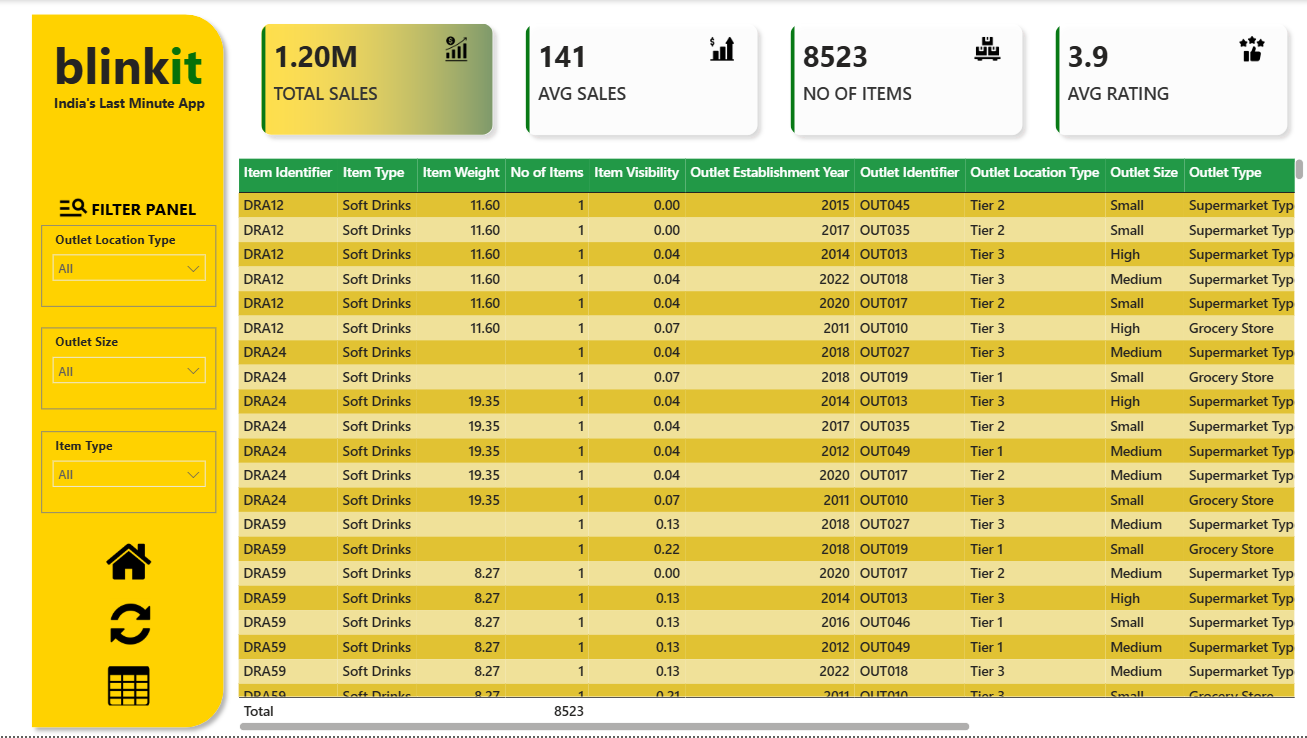

Layout of this report page (visuals, bound fields, positions):
{"tool":"powerbi","page":{"name":"Table","canvas":[1280,720],"ordinal":1},"visuals":[{"type":"shape","box":[21.4,4.3,205.7,715.7],"z":0},{"type":"textbox","box":[47.1,25.7,157.1,92.9],"z":1000},{"type":"textbox","box":[47.1,87.1,171.4,31.4],"z":2000},{"type":"slicer","fields":{"Values":["BlinkIT Grocery Data.Outlet Location Type"]},"box":[40,220,171.4,80],"z":3000},{"type":"slicer","fields":{"Values":["BlinkIT Grocery Data.Outlet Size"]},"box":[40,320,171.4,80],"z":4000},{"type":"slicer","fields":{"Values":["BlinkIT Grocery Data.Item Type"]},"box":[40,421.4,171.4,80],"z":5000},{"type":"textbox","box":[71.4,188.6,140,31.4],"z":6000},{"type":"actionButton","box":[104.3,525.7,44.3,47.1],"z":7000},{"type":"actionButton","box":[107.1,585.7,40,50],"z":8000},{"type":"actionButton","box":[104.3,651.4,44.3,38.6],"z":9000},{"type":"image","box":[55.7,188.6,31.4,31.4],"z":10000},{"type":"cardVisual","fields":{"Data":["BlinkIT Grocery Data.Total Sales","BlinkIT Grocery Data.Avg Sales","BlinkIT Grocery Data.No of Items","BlinkIT Grocery Data.Avg Rating"]},"box":[237.2,4.9,1042.9,145.7],"z":11000},{"type":"tableEx","fields":{"Values":["BlinkIT Grocery Data.Item Identifier","BlinkIT Grocery Data.Item Type","BlinkIT Grocery Data.Item Weight","BlinkIT Grocery Data.No of Items","BlinkIT Grocery Data.Item Visibility","BlinkIT Grocery Data.Outlet Establishment Year","BlinkIT Grocery Data.Outlet Identifier","BlinkIT Grocery Data.Outlet Location Type","BlinkIT Grocery Data.Outlet Size","BlinkIT Grocery Data.Outlet Type","BlinkIT Grocery Data.Rating","BlinkIT Grocery Data.Sales"]},"box":[227.1,150,1052.9,570],"z":12000}]}

Visuals, with their boxes in screenshot pixels (x1, y1, x2, y2), scaled from the page's 1280x720 canvas onto the 1307x738 screenshot:
shape: 22:4:232:737
textbox: 48:26:209:122
textbox: 48:89:223:121
slicer - BlinkIT Grocery Data.Outlet Location Type: 41:225:216:308
slicer - BlinkIT Grocery Data.Outlet Size: 41:328:216:410
slicer - BlinkIT Grocery Data.Item Type: 41:432:216:514
textbox: 73:193:216:225
actionButton: 107:539:152:587
actionButton: 109:600:150:652
actionButton: 107:668:152:707
image: 57:193:89:225
cardVisual - BlinkIT Grocery Data.Total Sales x BlinkIT Grocery Data.Avg Sales: 242:5:1306:154
tableEx - BlinkIT Grocery Data.Item Identifier x BlinkIT Grocery Data.Item Type: 232:154:1306:737
